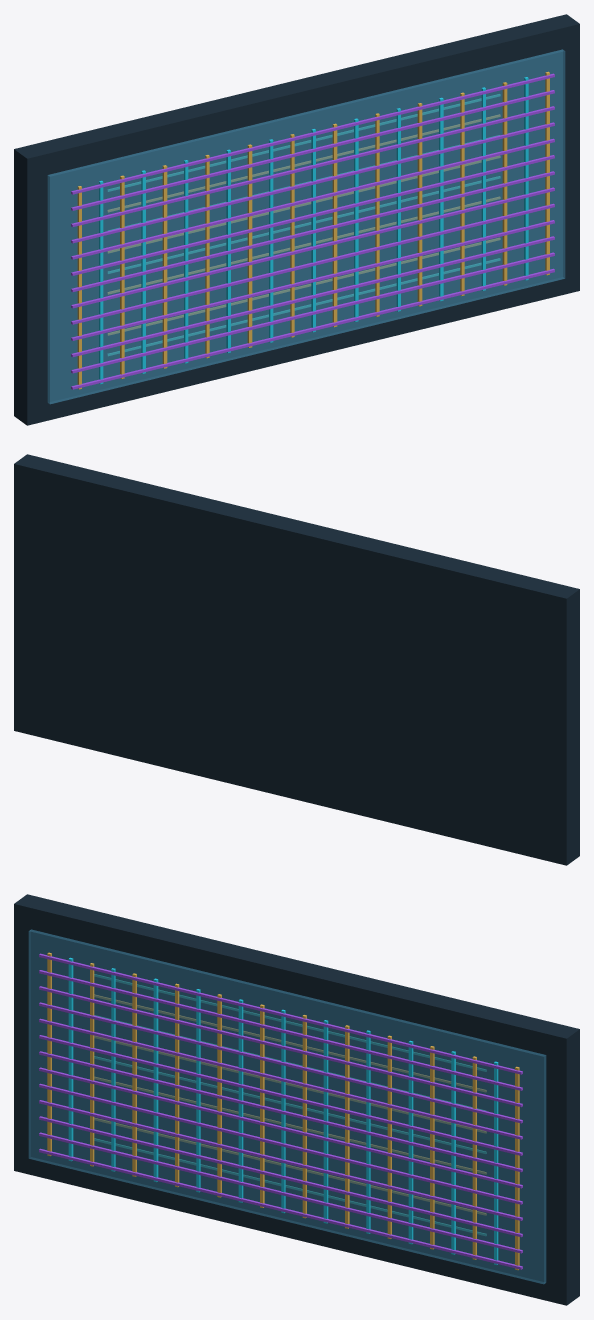
File: 31_L79_MoireOverlayProjectionSystem.fbx
The picture shows the model from 3 angles, top to bottom: view 1: azimuth 30°, elevation 25°; view 2: azimuth 150°, elevation 25°; view 3: azimuth 330°, elevation 25°; orthographic projection.
Visible parts, largest first — view 1: MoireOverlayProjectionSystem, MoireOverlayProjectionSystem_Part_0067, MoireOverlayProjectionSystem_Part_0059, MoireOverlayProjectionSystem_Part_0062, MoireOverlayProjectionSystem_Part_0060, MoireOverlayProjectionSystem_Part_0063, MoireOverlayProjectionSystem_Part_0066, MoireOverlayProjectionSystem_Part_0064; view 2: MoireOverlayProjectionSystem; view 3: MoireOverlayProjectionSystem, MoireOverlayProjectionSystem_Part_0062, MoireOverlayProjectionSystem_Part_0067, MoireOverlayProjectionSystem_Part_0060, MoireOverlayProjectionSystem_Part_0063, MoireOverlayProjectionSystem_Part_0066, MoireOverlayProjectionSystem_Part_0059, MoireOverlayProjectionSystem_Part_0064.
Boxes of the visible parts, x1,y1,x2,y2 form: MoireOverlayProjectionSystem: [14, 14, 579, 425]; MoireOverlayProjectionSystem_Part_0067: [107, 94, 500, 191]; MoireOverlayProjectionSystem_Part_0059: [107, 258, 500, 355]; MoireOverlayProjectionSystem_Part_0062: [107, 196, 500, 294]; MoireOverlayProjectionSystem_Part_0060: [107, 238, 500, 335]; MoireOverlayProjectionSystem_Part_0063: [107, 176, 500, 273]; MoireOverlayProjectionSystem_Part_0066: [107, 114, 500, 212]; MoireOverlayProjectionSystem_Part_0064: [107, 156, 500, 253]; MoireOverlayProjectionSystem: [14, 454, 579, 865]; MoireOverlayProjectionSystem: [14, 894, 579, 1305]; MoireOverlayProjectionSystem_Part_0062: [94, 1077, 486, 1174]; MoireOverlayProjectionSystem_Part_0067: [94, 974, 486, 1071]; MoireOverlayProjectionSystem_Part_0060: [94, 1118, 486, 1215]; MoireOverlayProjectionSystem_Part_0063: [94, 1056, 486, 1153]; MoireOverlayProjectionSystem_Part_0066: [94, 994, 486, 1092]; MoireOverlayProjectionSystem_Part_0059: [94, 1138, 486, 1235]; MoireOverlayProjectionSystem_Part_0064: [94, 1036, 486, 1133].
Bounding box in the file's own units: 338 × 156 × 24.75.
